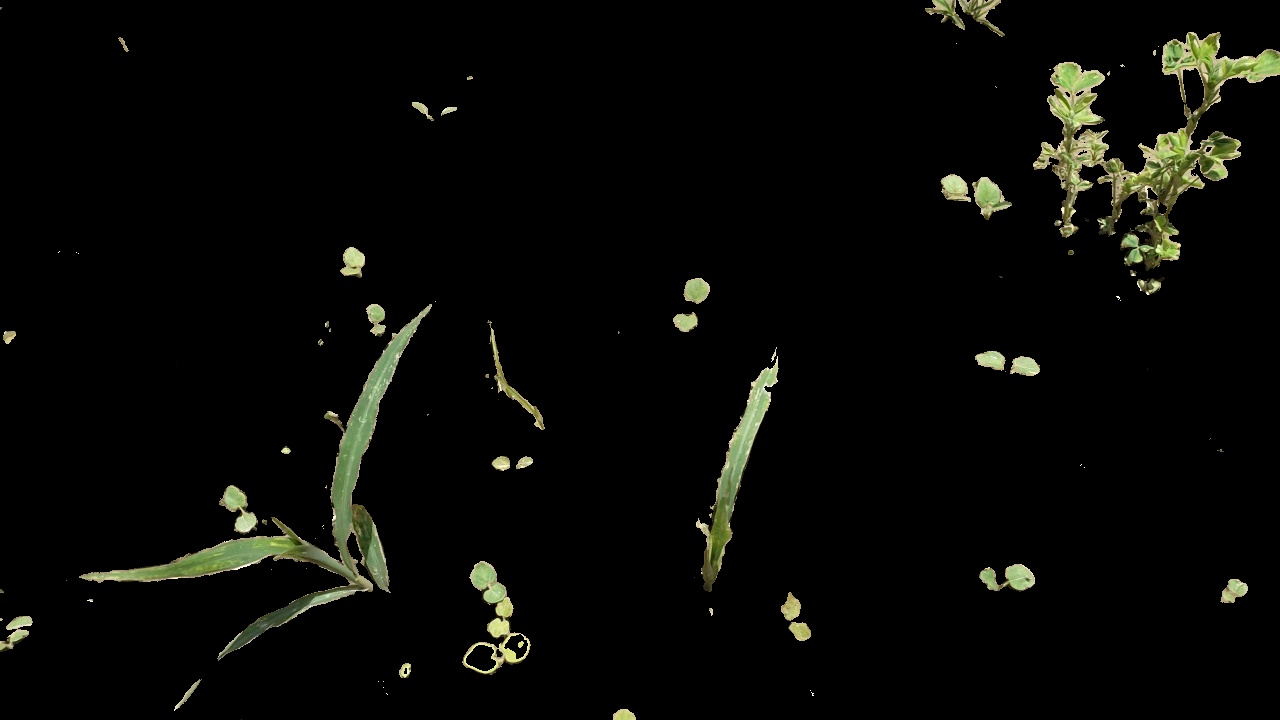crop: (81, 531, 387, 707), (324, 307, 429, 596)
weed: (1042, 27, 1280, 298), (669, 346, 775, 601), (440, 560, 543, 675), (936, 162, 1009, 227), (919, 1, 1018, 36), (670, 267, 714, 339), (975, 562, 1048, 604), (219, 471, 260, 534), (972, 341, 1041, 377), (782, 578, 816, 649), (395, 94, 466, 126), (1, 608, 36, 660), (336, 239, 370, 282), (490, 451, 533, 479), (1221, 570, 1249, 606), (364, 301, 387, 340)
